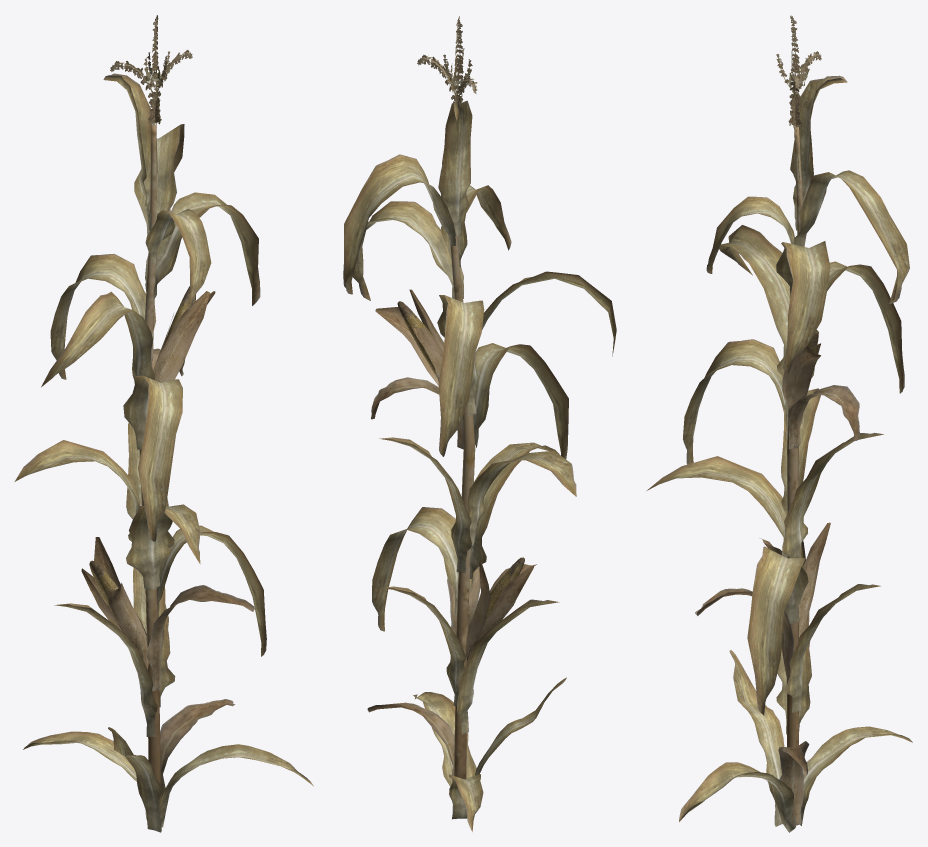
The model's file is SM_Corn03.fbx.
The picture shows the model from 3 angles, left to right: view 1: azimuth 30°, elevation 25°; view 2: azimuth 150°, elevation 25°; view 3: azimuth 270°, elevation 25°; orthographic projection.
Visible parts, largest first — view 1: SM_Corn03.mo; view 2: SM_Corn03.mo; view 3: SM_Corn03.mo.
Boxes of the visible parts, x1=… form: SM_Corn03.mo: x1=14, y1=15, x2=313, y2=832; SM_Corn03.mo: x1=343, y1=16, x2=616, y2=831; SM_Corn03.mo: x1=646, y1=15, x2=912, y2=832.
Size of the model in its own units: 81.99 by 269 by 80.12.
